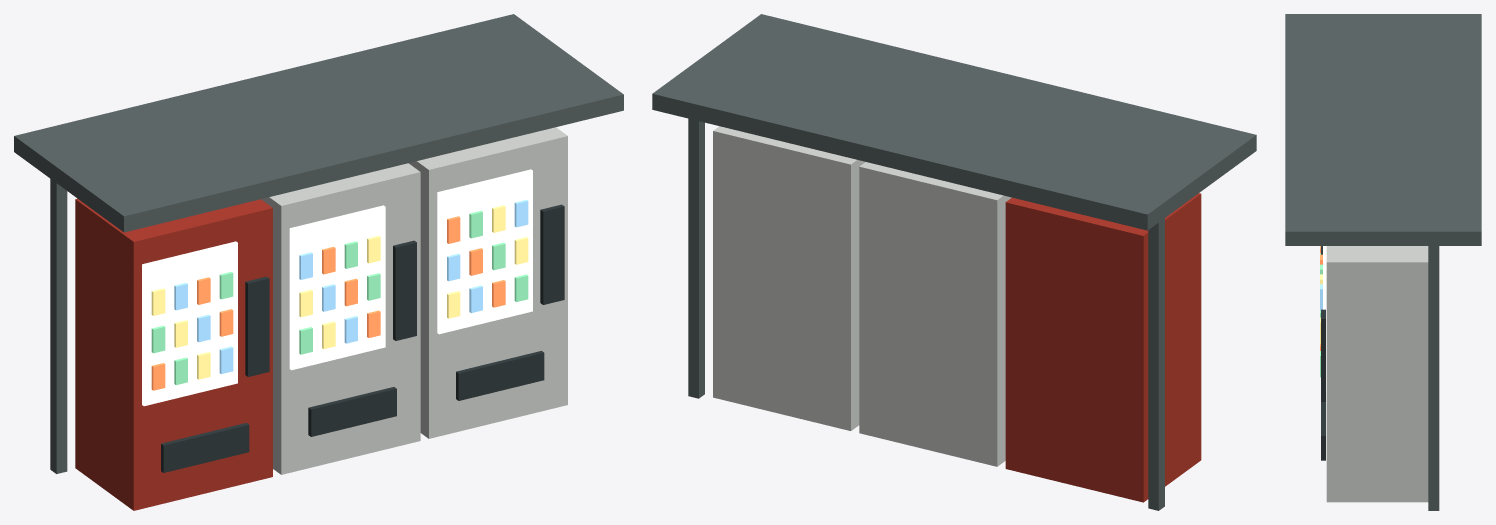
File: vending-row.glb
The picture shows the model from 3 angles, left to right: view 1: azimuth 30°, elevation 25°; view 2: azimuth 150°, elevation 25°; view 3: azimuth 270°, elevation 25°; orthographic projection. The views are drawn at different scales.
Parts seen in each view (by area): view 1: vending-row; view 2: vending-row; view 3: vending-row.
Part boxes in pixels (<box>): vending-row: <box>14,14,623,510</box>; vending-row: <box>652,14,1256,510</box>; vending-row: <box>1285,14,1481,510</box>.
Size of the model in its own units: 4.2 by 2.56 by 1.6.
